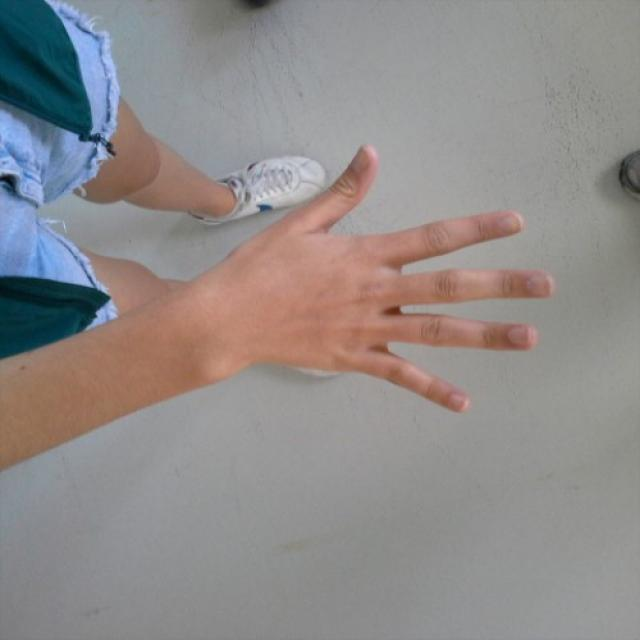paper: (249, 140, 554, 412)
